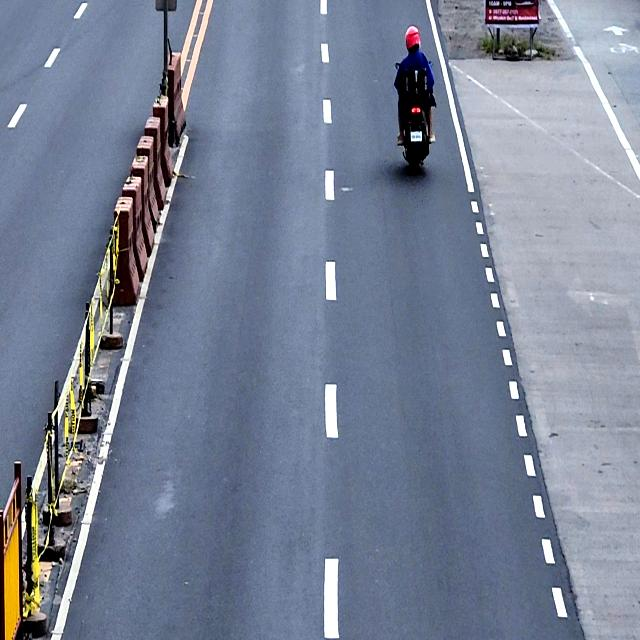License-Plate: (410, 130, 423, 142)
Motorcycle: (394, 61, 436, 174)
